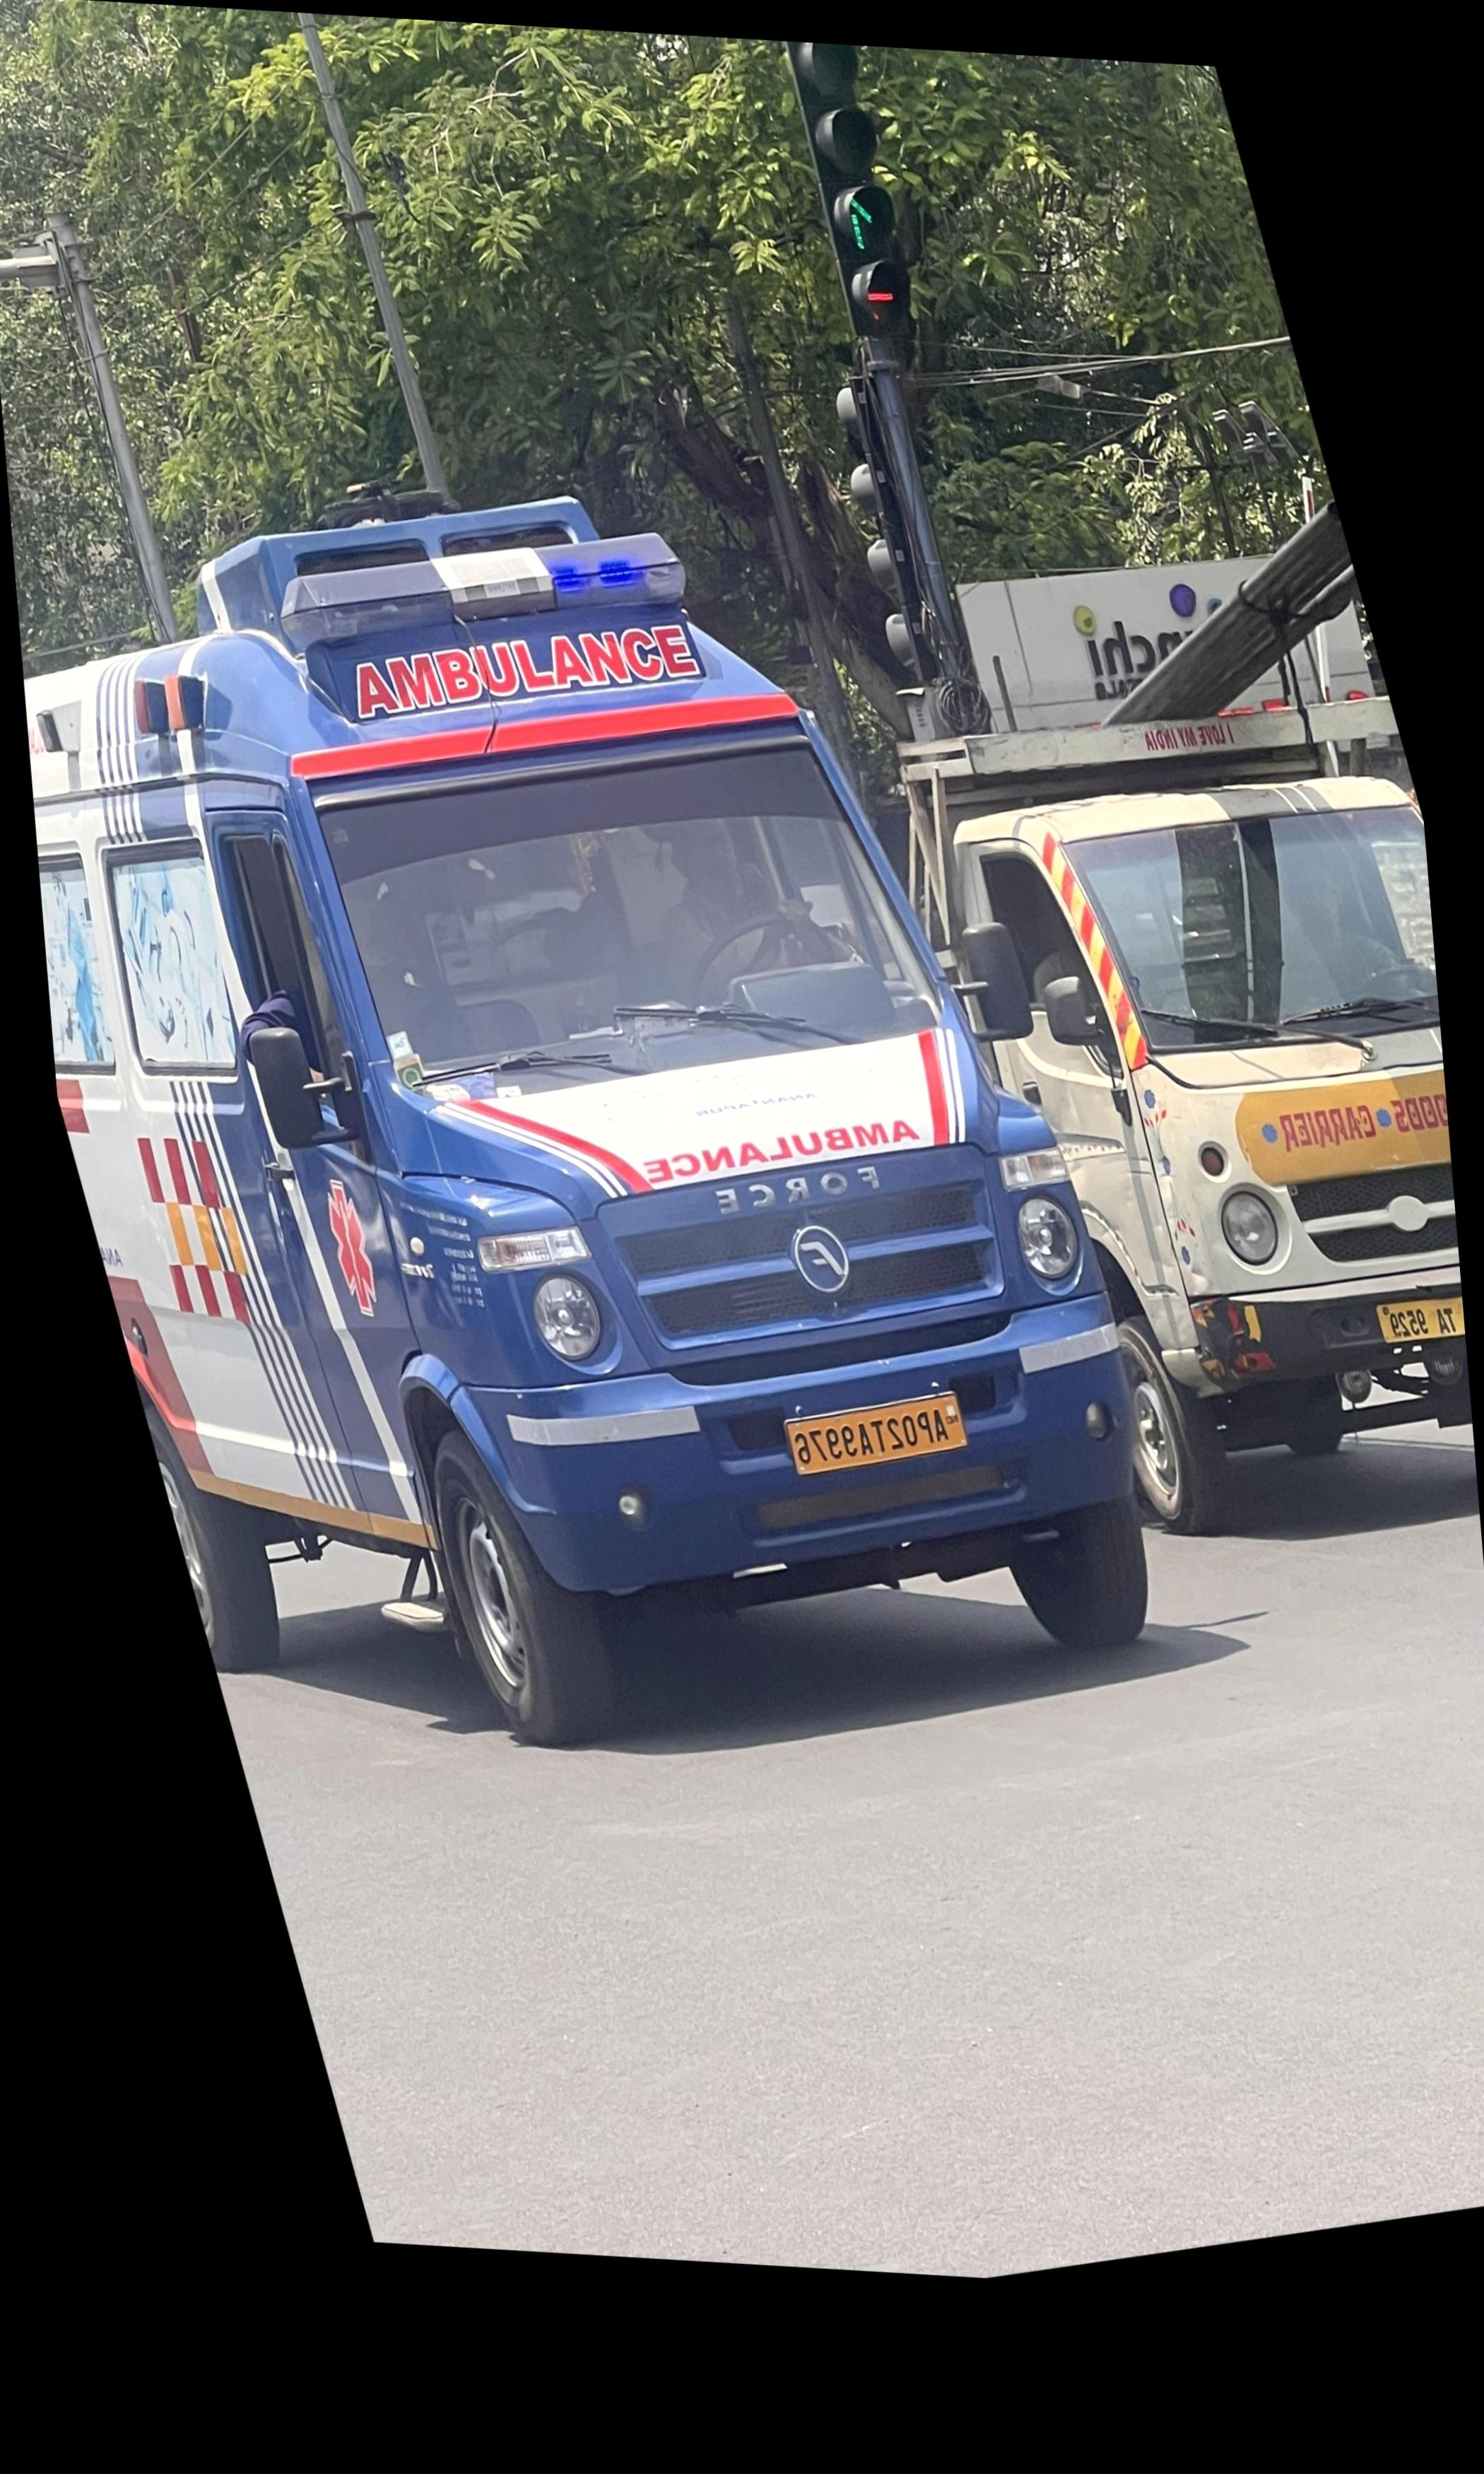ambulance: (30, 518, 1152, 1732)
